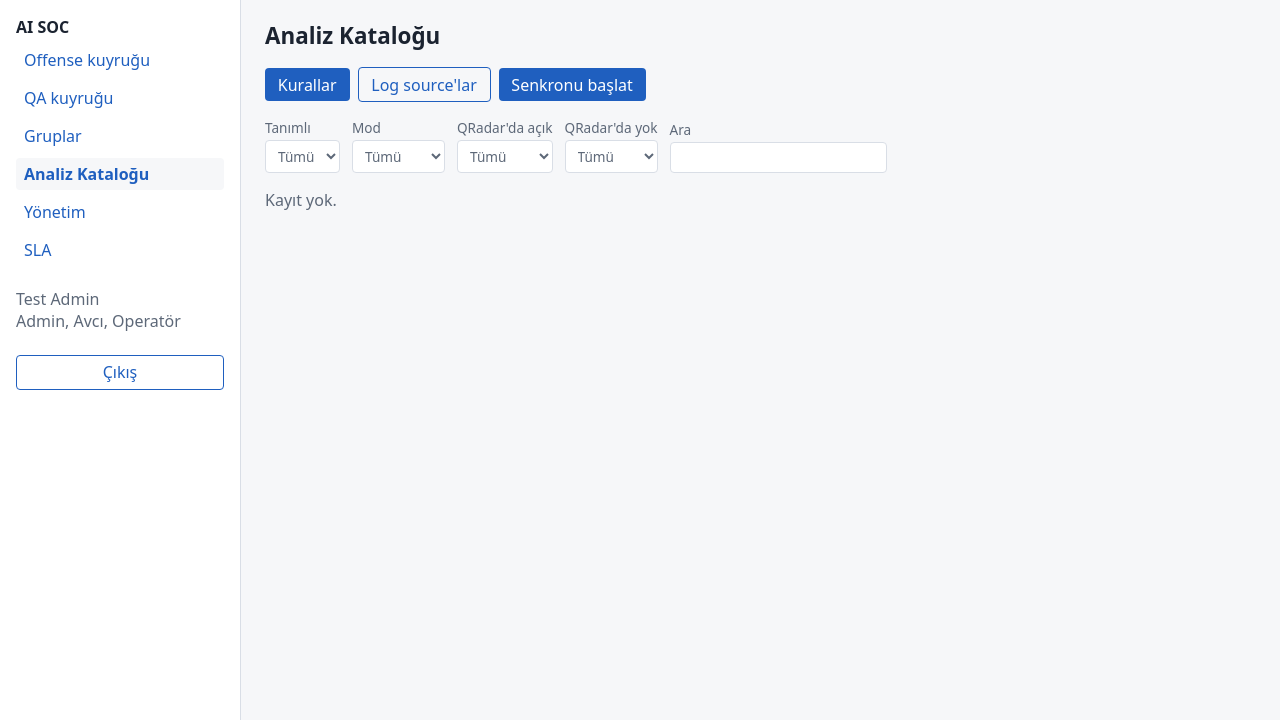
catalog (criterion 8) › shows why a sync could not start
Click the button "Senkronu başlat". click: (572,85)
box: [498,68,646,101]
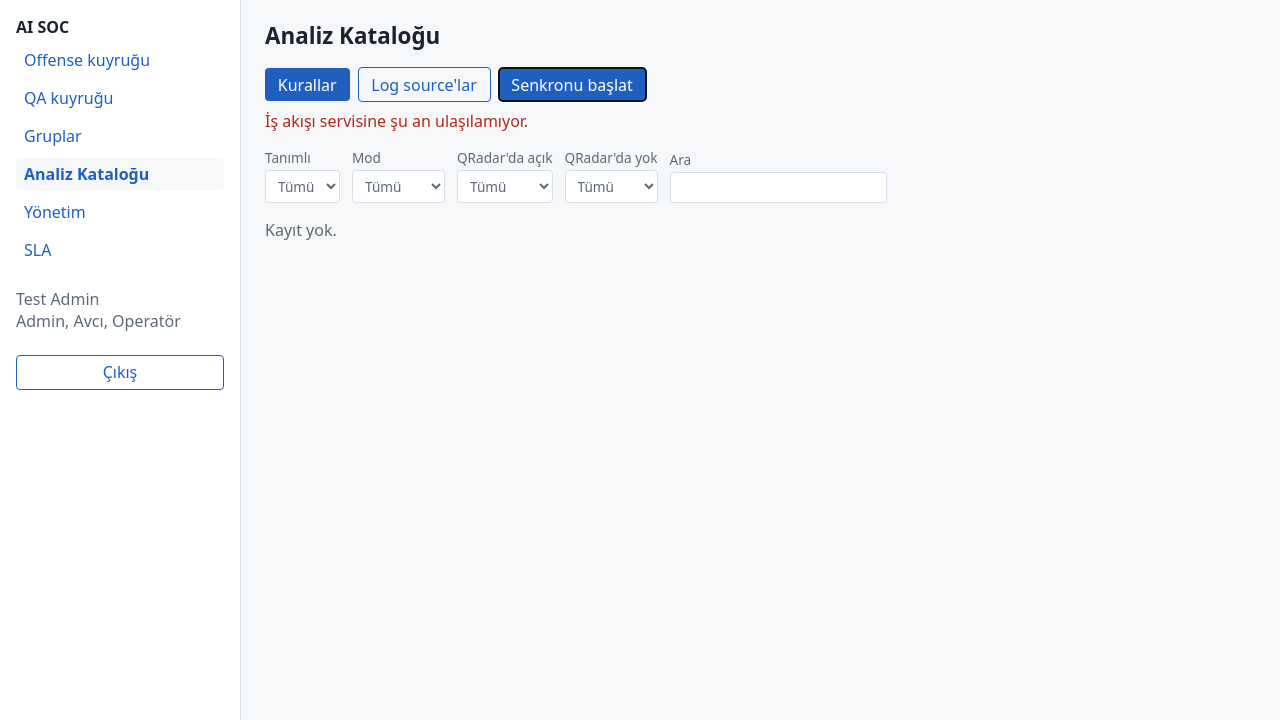
Expected: the text "İş akışı servisine şu an ulaşılamıyor." is shown, [265,110,528,132]
